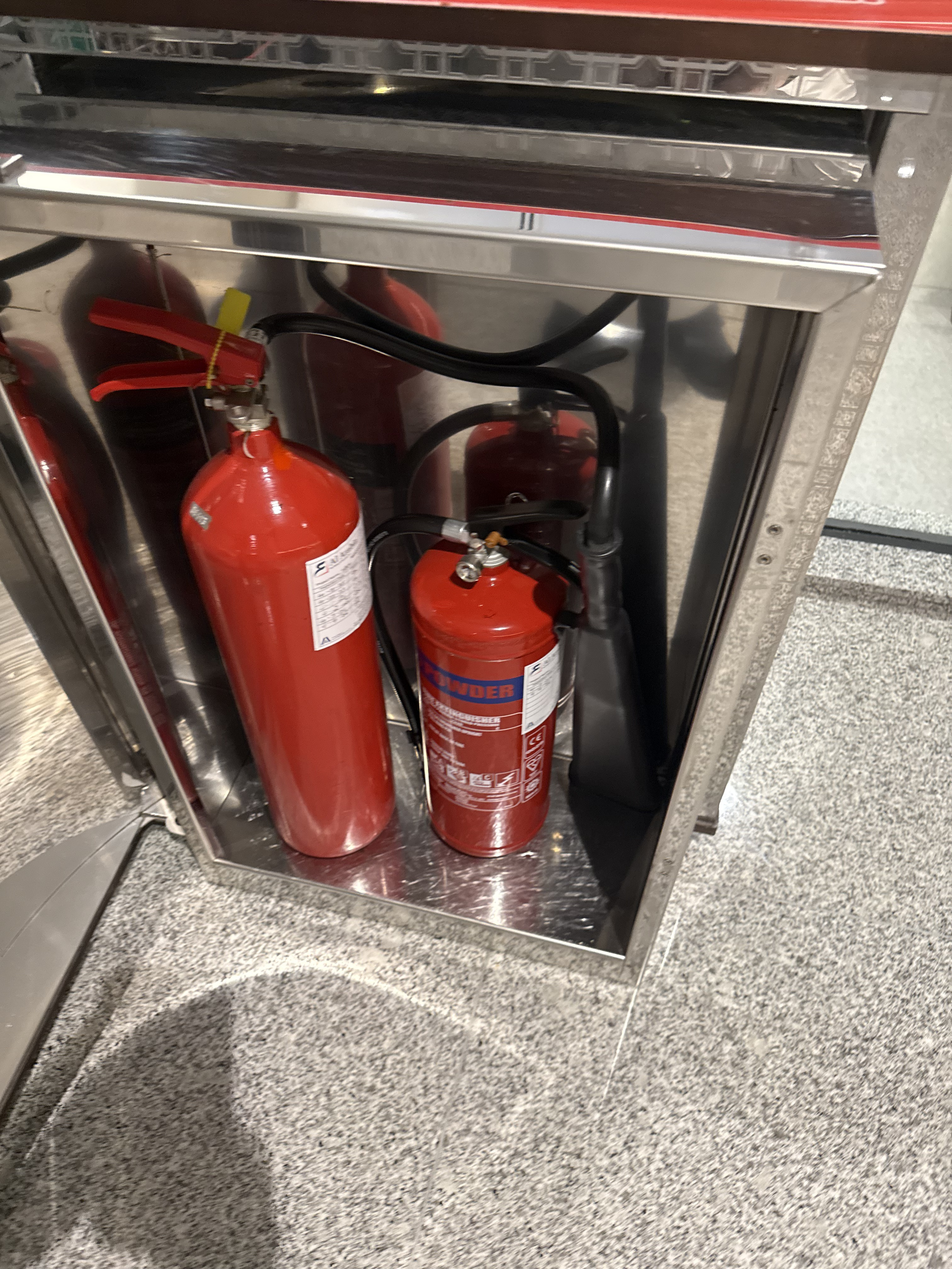fire_extinguisher: (86, 293, 396, 859), (299, 264, 453, 748), (406, 523, 573, 859), (462, 390, 599, 755)
